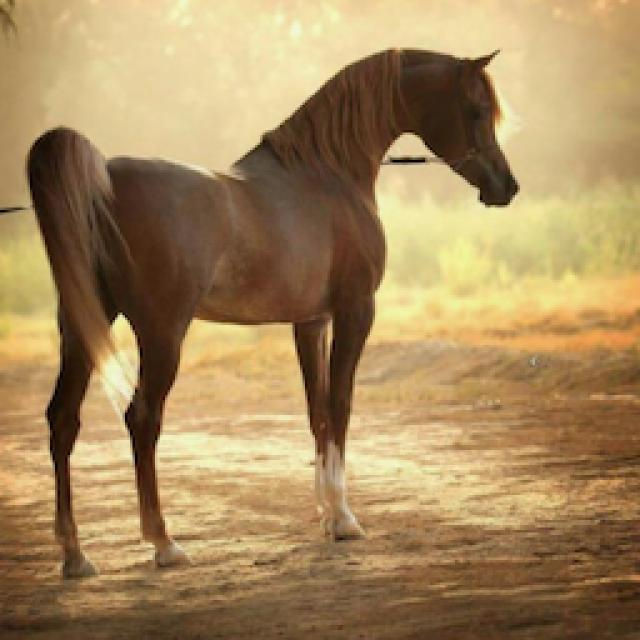Horse: (0, 38, 525, 582)
